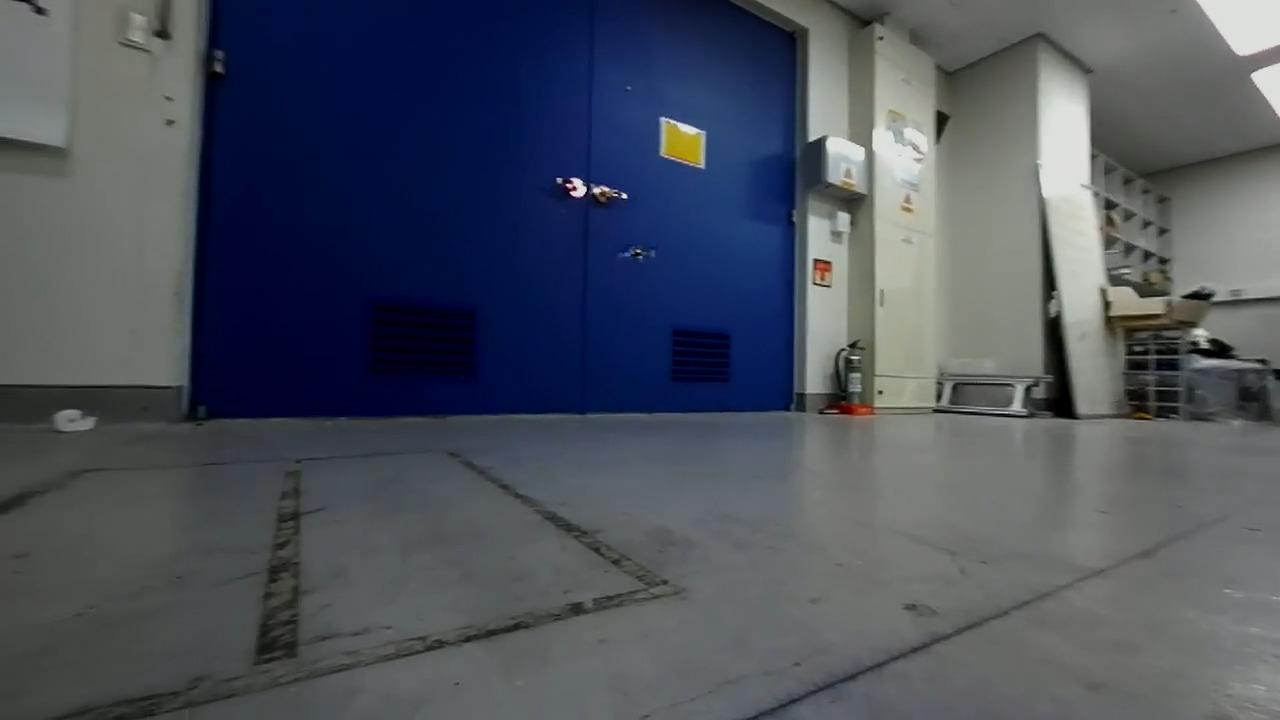crazyflie: (616, 242, 658, 264)
